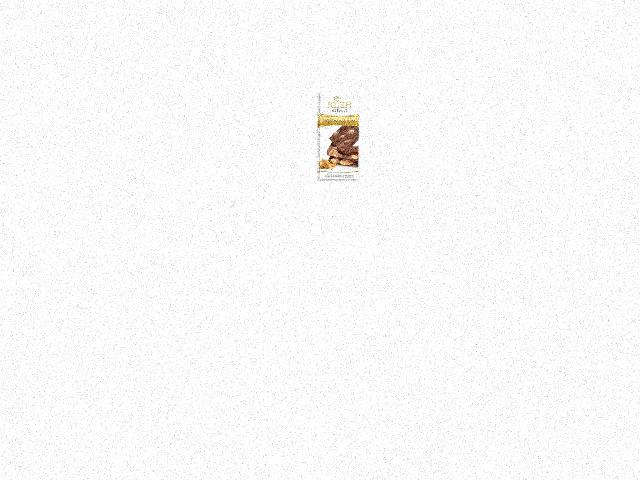chocolate: (309, 86, 368, 179)
